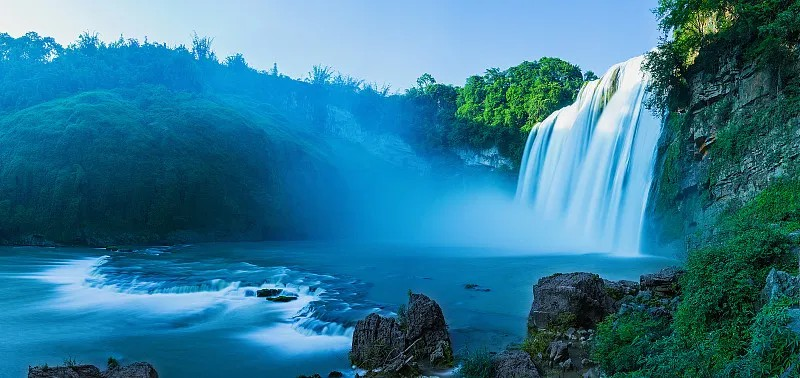Huangguoshu: (513, 47, 664, 256)
